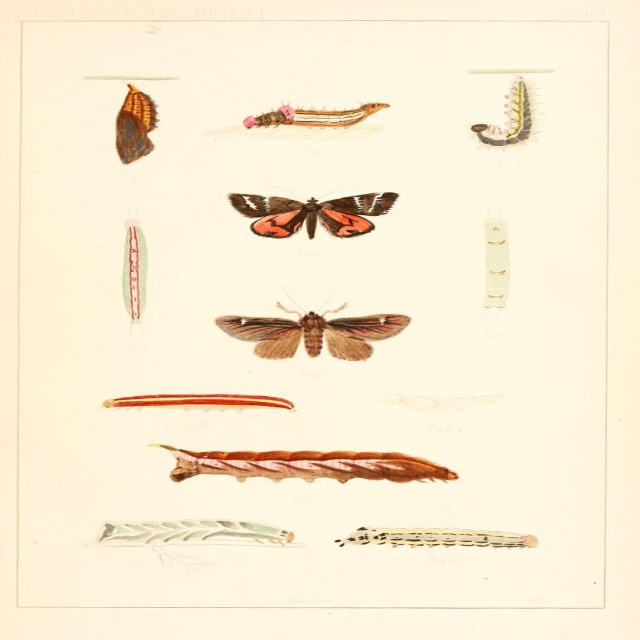Butterfly: (218, 286, 403, 375), (226, 193, 397, 239)
